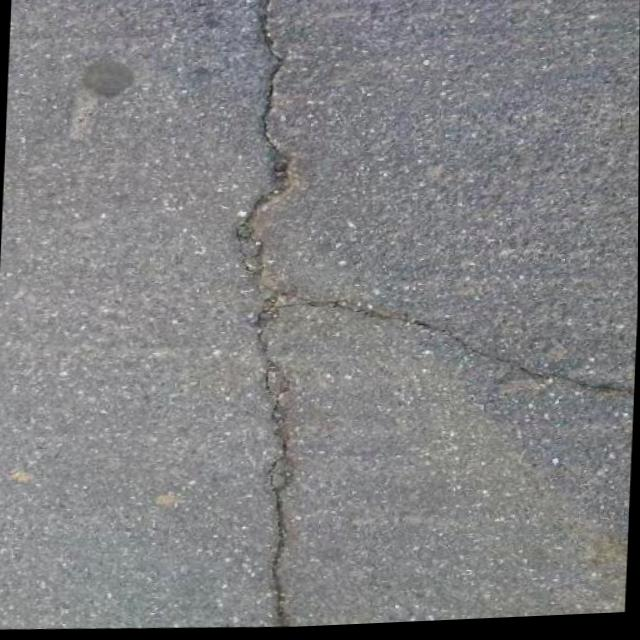Crack: (197, 0, 337, 633), (224, 268, 638, 426)
